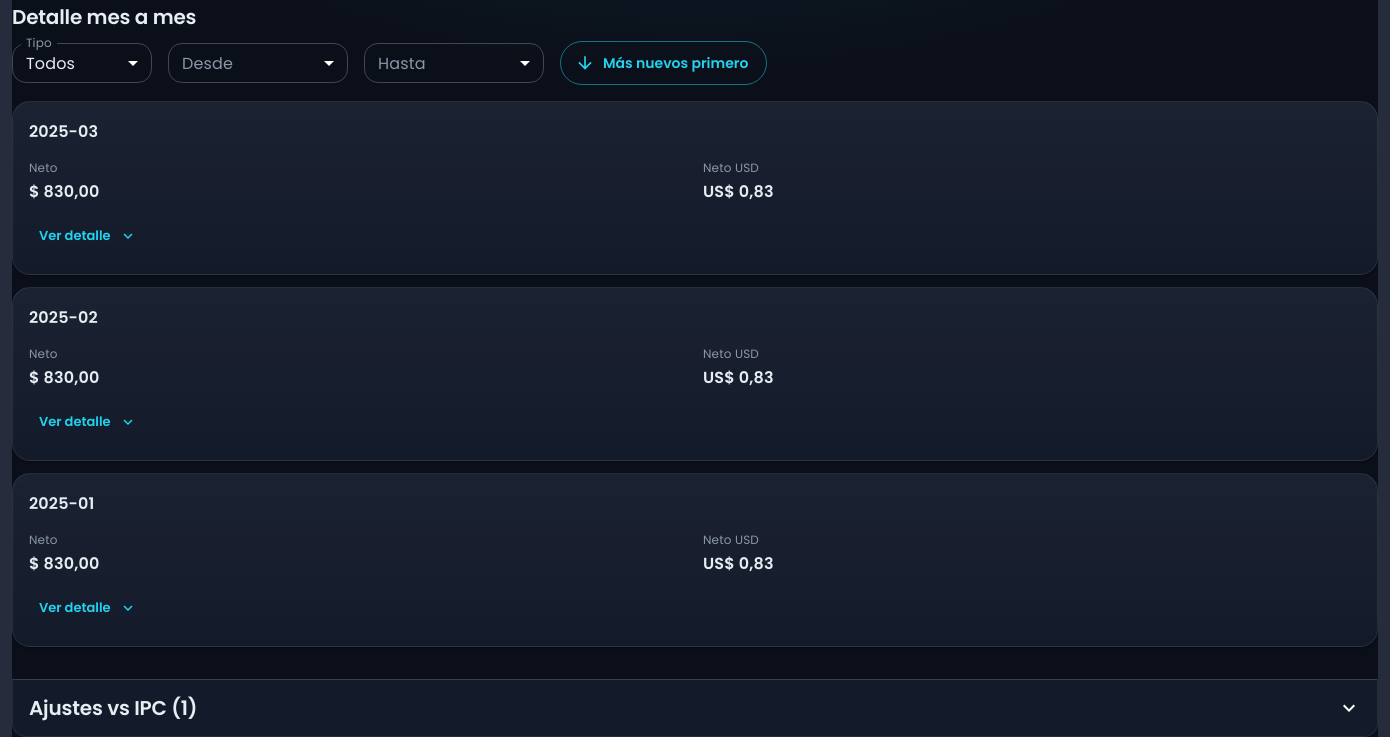
Test: PayslipsPage en mobile con filtros y ajustes › la sección de ajustes muestra una tarjeta por ajuste con el veredicto y el IPC
(page scrolled)
Click the button "Ajustes vs IPC (1)" at (105, 708), box [13,680,1377,736]
(page scrolled)
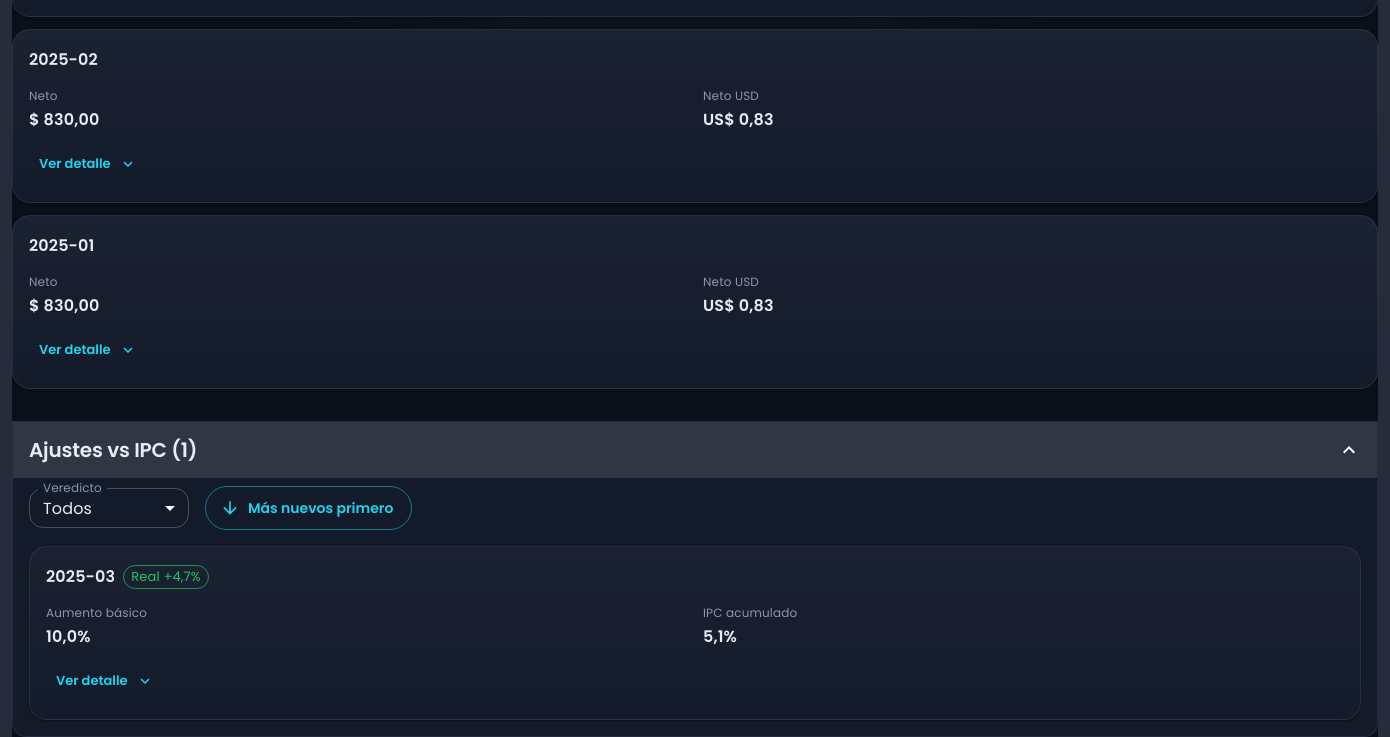
Check: the text "Real +4,7%" is shown, box [131,567,201,586]
Check: the text "10,0%" is shown, box [46,625,90,648]
Check: the text "5,1%" is shown, box [703,625,737,648]
Click the button "Ver detalle" below "10,0%" at (104, 681), box [38,659,170,703]
(page scrolled)
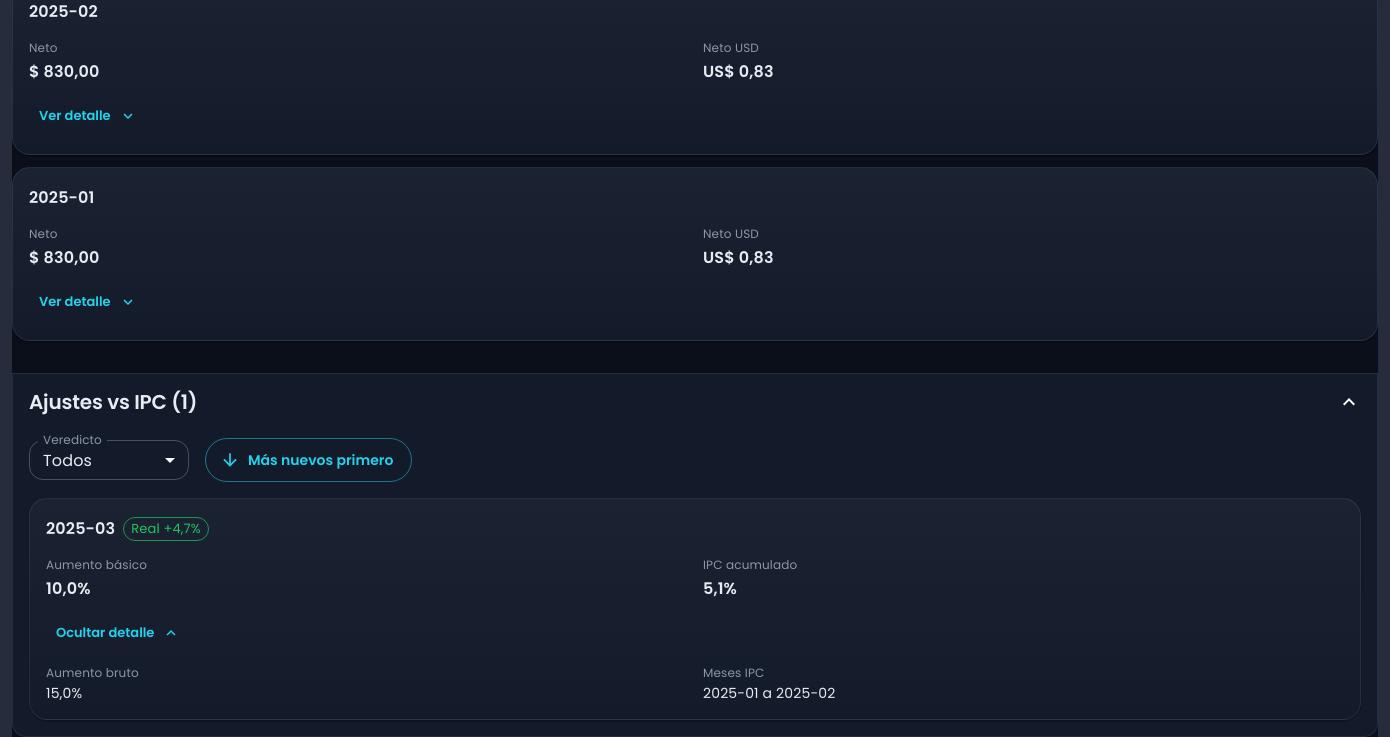
Check: the text "15,0%" is shown, box [46,683,82,703]
Check: the text "2025-01 a 2025-02" is shown, box [703,683,835,703]
